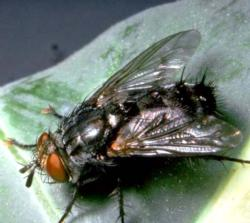house fly: (9, 29, 249, 221)
